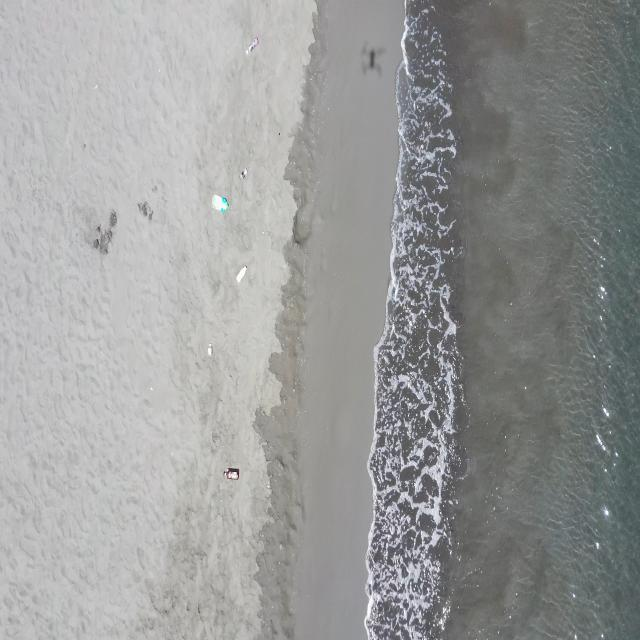Garbage: (92, 209, 116, 252), (136, 200, 151, 220), (212, 193, 227, 212), (247, 36, 258, 54), (223, 467, 238, 479), (236, 264, 246, 281), (240, 168, 247, 178), (208, 343, 212, 355)
